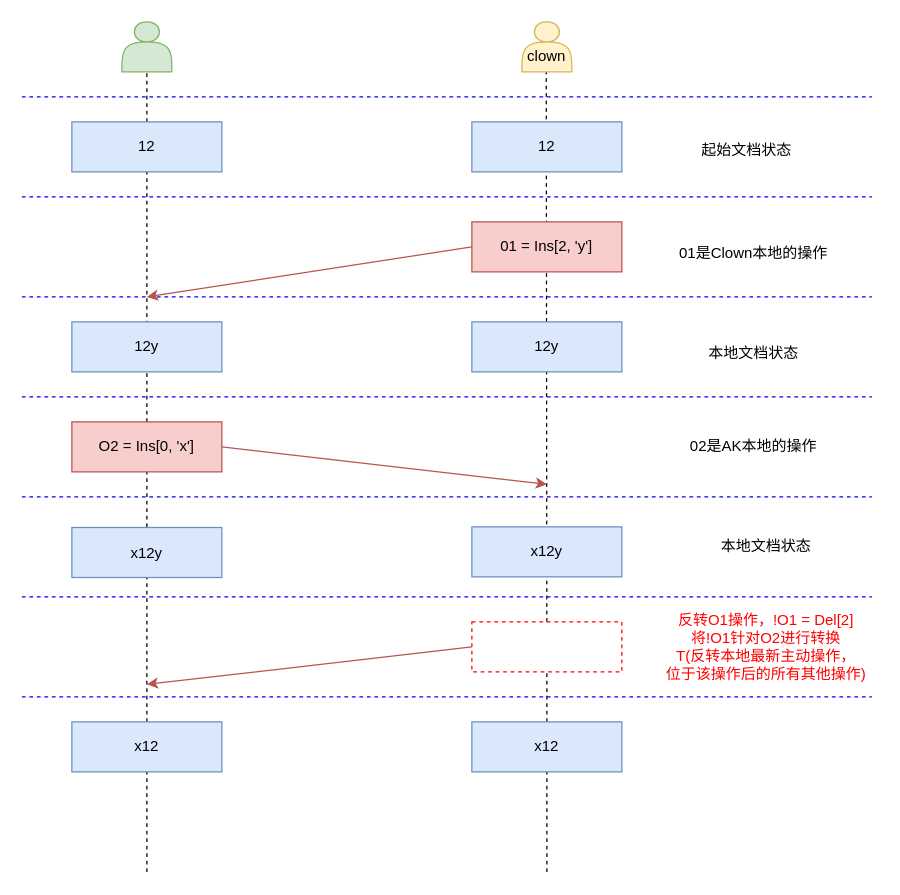
Image size: 900x895. Some labels were removed from this diagram. Here are the shapes that lost their labels. From the top down, the centre of each, then its label:
At point (146, 46): "AK".
At point (546, 646): "Undo(O1) = T(!O1, O2) = Del[ 3 ]".
